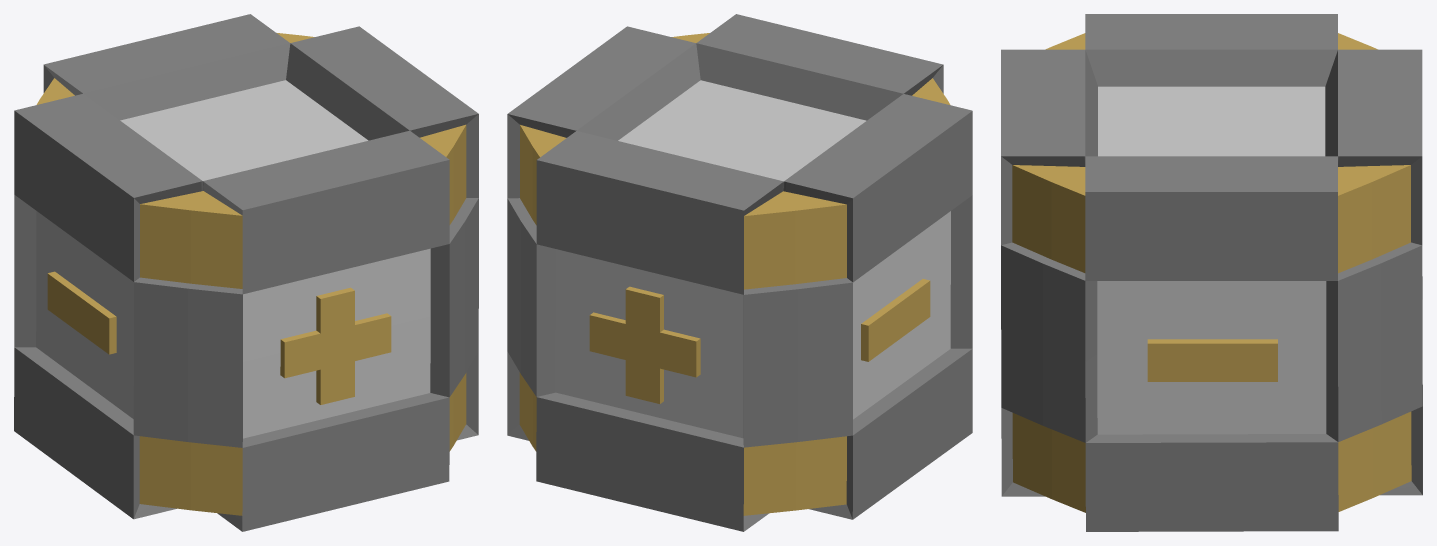
Rendered from Battery Box_02 (2).fbx.
3 views of the same model, side by side, from view 1: azimuth 30°, elevation 25°; view 2: azimuth 150°, elevation 25°; view 3: azimuth 270°, elevation 25° (orthographic). The views are drawn at different scales.
Parts seen in each view (by area): view 1: Battery_Box; view 2: Battery_Box; view 3: Battery_Box.
Boxes of the visible parts, x1,y1,x2,y2 form: Battery_Box: [14, 14, 478, 531]; Battery_Box: [507, 14, 972, 531]; Battery_Box: [1001, 14, 1422, 531].
Size of the model in its own units: 110 by 98.2 by 110.
